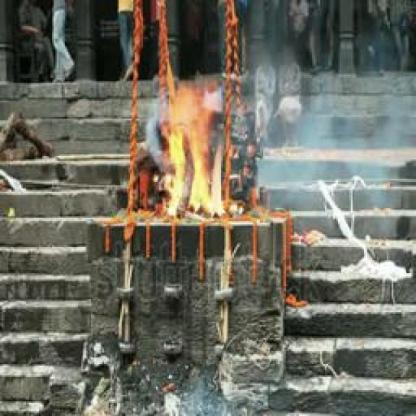fire: (165, 86, 233, 221)
